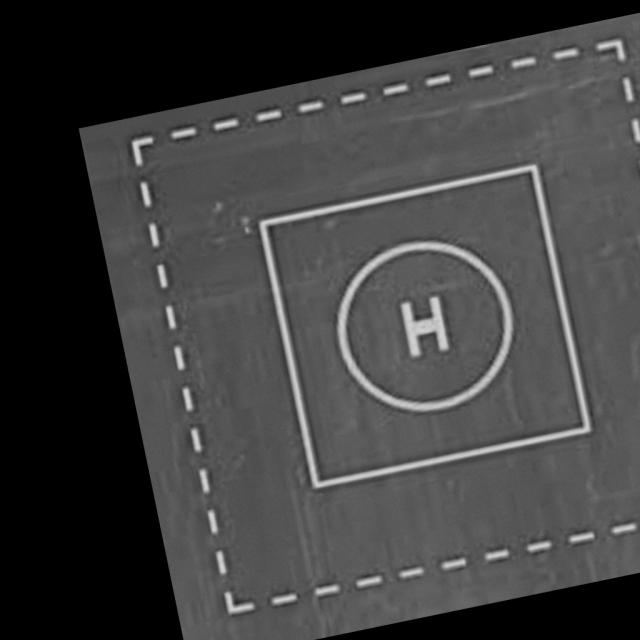helipad: (332, 236, 517, 414)
